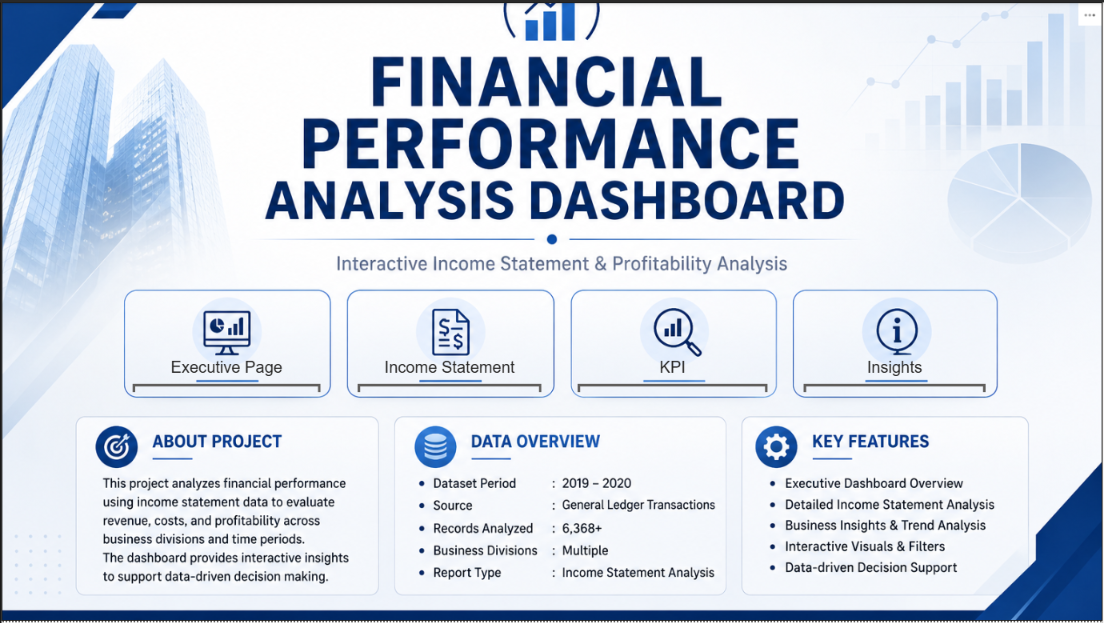

The page's visual inventory and layout, read from the dashboard file:
{"tool":"powerbi","page":{"name":"Intro-Page","canvas":[1280,720],"ordinal":0},"visuals":[{"type":"image","box":[0,0,1280.2,719.8],"z":0},{"type":"actionButton","title":"Executive  Page","box":[152.3,414,218.6,39.5],"z":1000},{"type":"actionButton","title":"Income Statement","box":[414,414,214,39.5],"z":2000},{"type":"actionButton","title":"KPI ","box":[669.8,414,220.9,39.5],"z":3000},{"type":"actionButton","title":"Insights","box":[932.6,414,211.6,39.5],"z":4000}]}

Visuals, with their boxes in screenshot pixels (x1, y1, x2, y2), scaled from the page's 1280x720 canvas onto the 1105x623 screenshot:
image: {"left": 0, "top": 0, "right": 1104, "bottom": 622}
"Executive  Page" actionButton: {"left": 131, "top": 358, "right": 320, "bottom": 392}
"Income Statement" actionButton: {"left": 357, "top": 358, "right": 542, "bottom": 392}
"KPI " actionButton: {"left": 578, "top": 358, "right": 769, "bottom": 392}
"Insights" actionButton: {"left": 805, "top": 358, "right": 988, "bottom": 392}
